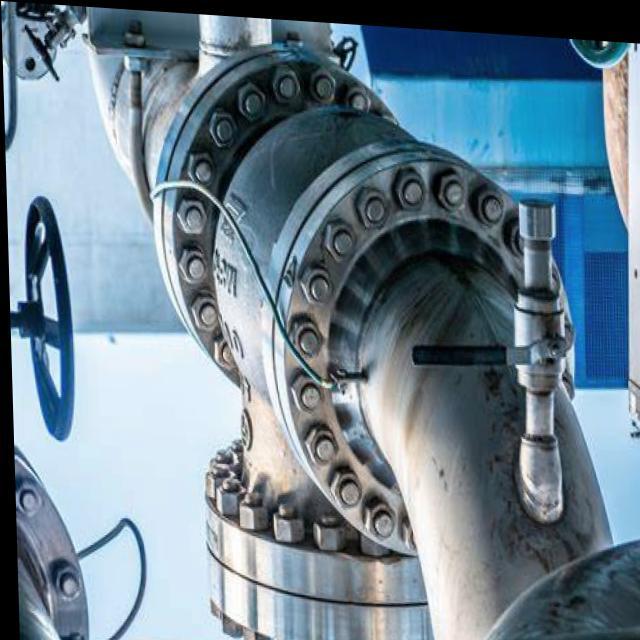Regular bolt: (303, 420, 336, 465), (470, 177, 503, 221), (357, 181, 388, 227), (434, 165, 467, 208), (298, 260, 332, 301), (361, 495, 394, 535), (289, 313, 322, 351), (310, 509, 342, 548), (325, 214, 354, 257), (393, 166, 423, 207), (329, 465, 358, 506), (238, 76, 267, 117), (207, 106, 237, 145), (174, 196, 206, 232), (273, 61, 301, 102), (49, 563, 78, 602), (176, 245, 207, 281), (291, 371, 320, 409), (186, 148, 215, 186), (236, 490, 263, 529), (270, 502, 299, 537), (190, 291, 216, 329), (311, 59, 336, 98), (12, 480, 39, 516), (213, 482, 239, 511), (212, 336, 232, 367)
